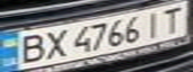4: (69, 22, 93, 54)
6: (121, 12, 148, 44), (106, 17, 130, 47)
7: (87, 20, 112, 52)
B: (12, 32, 51, 65)
I: (139, 8, 169, 38)
T: (154, 3, 190, 35)
X: (39, 27, 72, 61)
